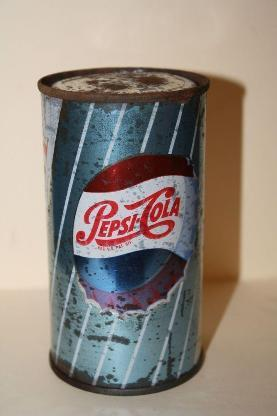Can: (38, 65, 210, 395)
